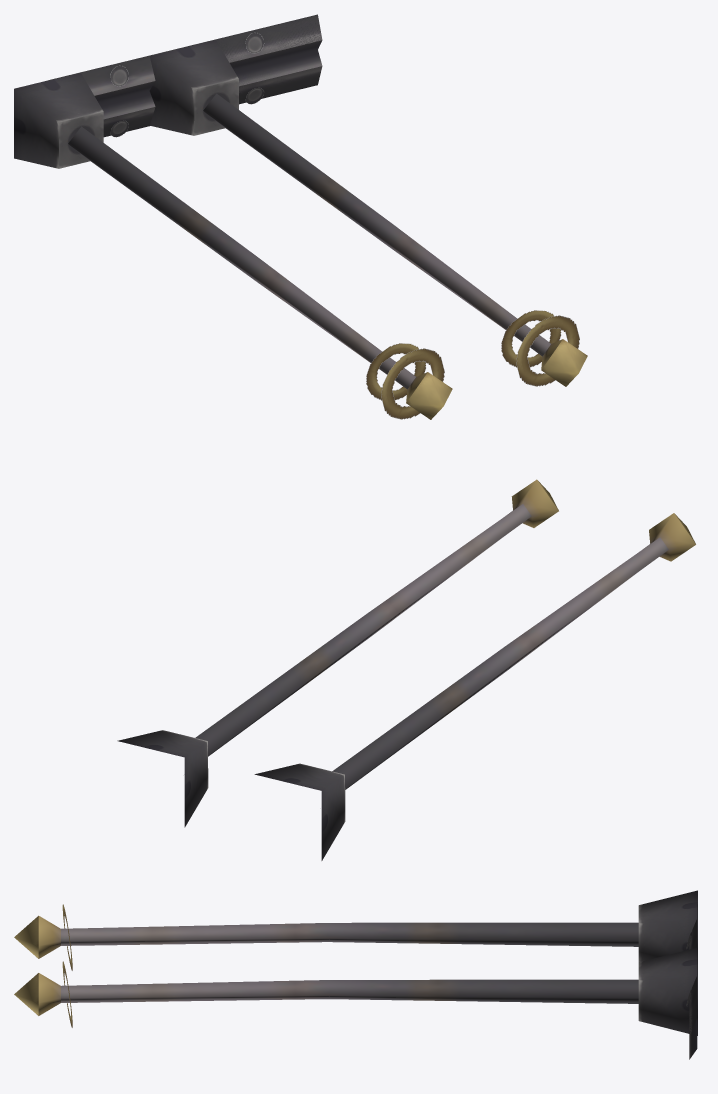
3 views of the same model, one above another, from view 1: azimuth 30°, elevation 25°; view 2: azimuth 150°, elevation 25°; view 3: azimuth 270°, elevation 25° (orthographic). The views are drawn at different scales.
Visible parts, largest first — view 1: player_teams.model_parts-MeshSets[mesh_endfull_floor].Mesh[0, player_teams.model_parts-MeshSets[mesh_pole].Mesh[0], player_teams.model_parts-MeshSets[mesh_end_floor].Mesh[0]; view 2: player_teams.model_parts-MeshSets[mesh_endfull_floor].Mesh[0, player_teams.model_parts-MeshSets[mesh_pole].Mesh[0]; view 3: player_teams.model_parts-MeshSets[mesh_pole].Mesh[0], player_teams.model_parts-MeshSets[mesh_endfull_floor].Mesh[0, player_teams.model_parts-MeshSets[mesh_end_floor].Mesh[0].
Part boxes in pixels (x1,y1,x2,y2): player_teams.model_parts-MeshSets[mesh_endfull_floor].Mesh[0: (14,15,452,419); player_teams.model_parts-MeshSets[mesh_pole].Mesh[0]: (149,40,587,386); player_teams.model_parts-MeshSets[mesh_end_floor].Mesh[0]: (183,14,322,104); player_teams.model_parts-MeshSets[mesh_endfull_floor].Mesh[0: (254,513,695,860); player_teams.model_parts-MeshSets[mesh_pole].Mesh[0]: (117,479,558,827); player_teams.model_parts-MeshSets[mesh_pole].Mesh[0]: (14,947,697,1035); player_teams.model_parts-MeshSets[mesh_endfull_floor].Mesh[0: (14,890,697,1056); player_teams.model_parts-MeshSets[mesh_end_floor].Mesh[0]: (686,966,697,1059).
Size of the model in its own units: 1.16 by 0.3246 by 2.55.
Materials: 2 (2 with a texture image).
